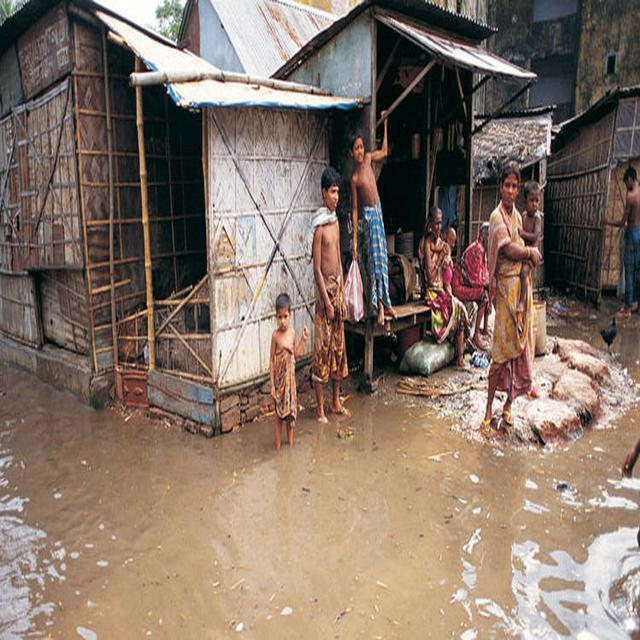Person-RiskLevel2: (484, 167, 553, 450), (302, 170, 359, 418), (341, 114, 403, 328), (259, 287, 317, 451), (420, 207, 472, 368)
